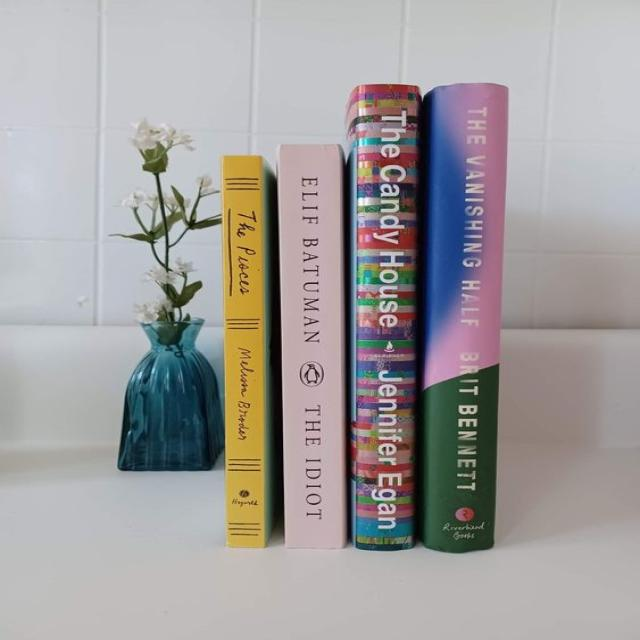book: (418, 84, 507, 552), (348, 84, 421, 550), (279, 144, 346, 548), (222, 156, 274, 547)
flowers: (110, 122, 223, 471)
